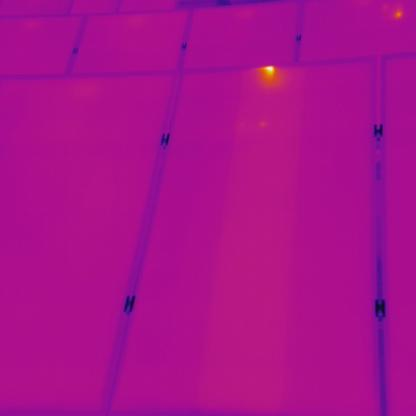hotspot: (259, 63, 282, 82)
